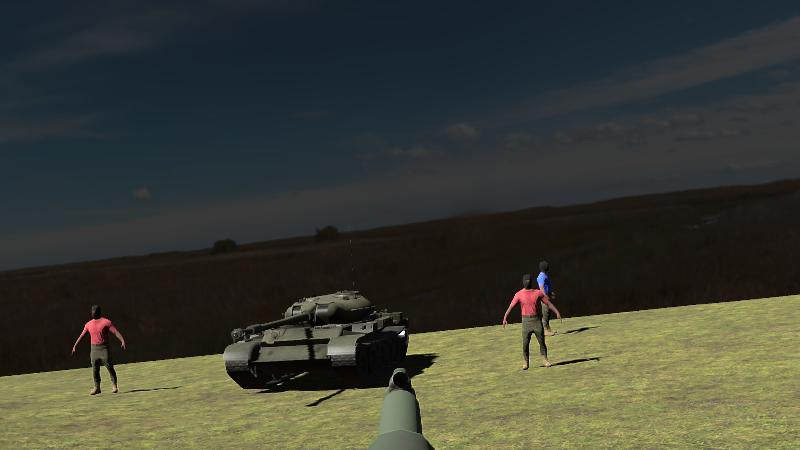Human: (502, 273, 560, 371), (72, 304, 125, 396), (535, 260, 559, 337)
Tank: (224, 288, 411, 392)
